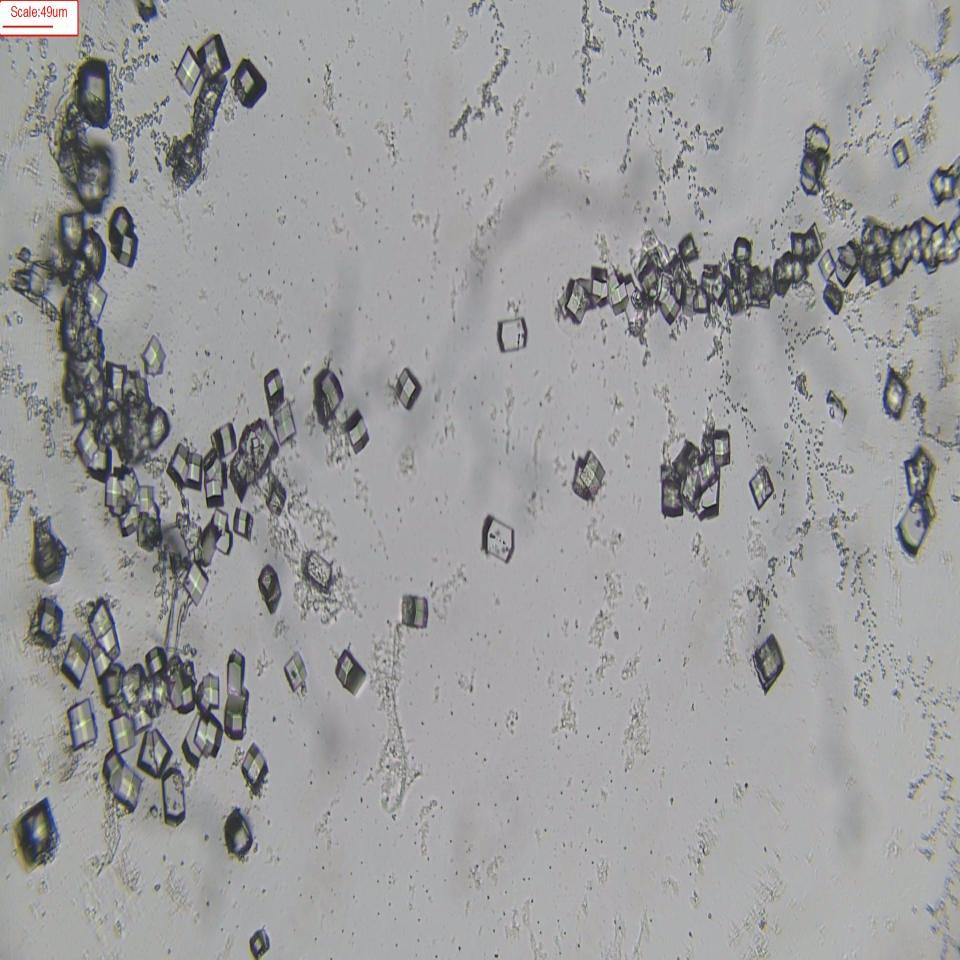crystal: (75, 58, 114, 132), (894, 493, 930, 554), (800, 128, 831, 198), (62, 698, 97, 756), (107, 210, 139, 273), (476, 514, 519, 558), (755, 631, 786, 691), (492, 311, 528, 361), (28, 597, 63, 648), (569, 448, 602, 501), (160, 766, 188, 826), (239, 742, 272, 790), (880, 370, 908, 425), (336, 647, 367, 696), (59, 631, 90, 680), (235, 57, 264, 109), (281, 646, 310, 698), (904, 453, 933, 503), (399, 585, 431, 630), (256, 565, 286, 613), (312, 372, 342, 420), (746, 460, 775, 509), (223, 811, 255, 854), (198, 32, 226, 81), (301, 551, 336, 589), (343, 406, 371, 452), (176, 48, 203, 95), (114, 762, 142, 807), (140, 334, 167, 380), (180, 560, 207, 604), (224, 647, 246, 699), (395, 365, 419, 409), (213, 421, 238, 462), (197, 670, 222, 710), (248, 921, 271, 960), (103, 753, 126, 792), (267, 478, 288, 519), (195, 717, 220, 750), (225, 693, 245, 734), (891, 133, 911, 172), (267, 365, 286, 406), (230, 506, 252, 540), (819, 244, 837, 280)
not_crystal: (658, 426, 728, 520), (57, 213, 102, 311), (98, 654, 162, 721), (630, 256, 688, 328), (107, 471, 162, 537), (65, 323, 103, 412), (708, 266, 777, 313), (14, 800, 57, 861), (31, 516, 70, 582)
